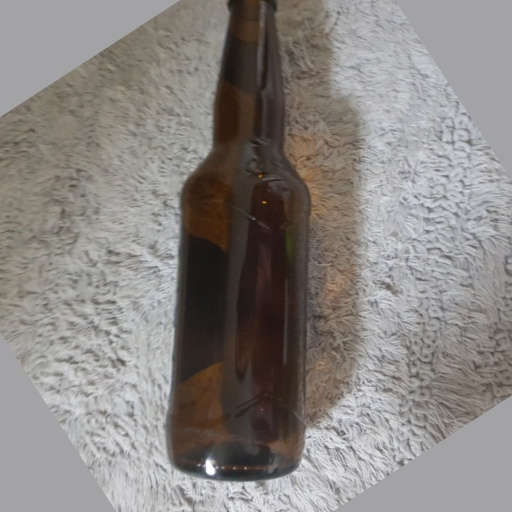Glass_1: (166, 1, 314, 479)
